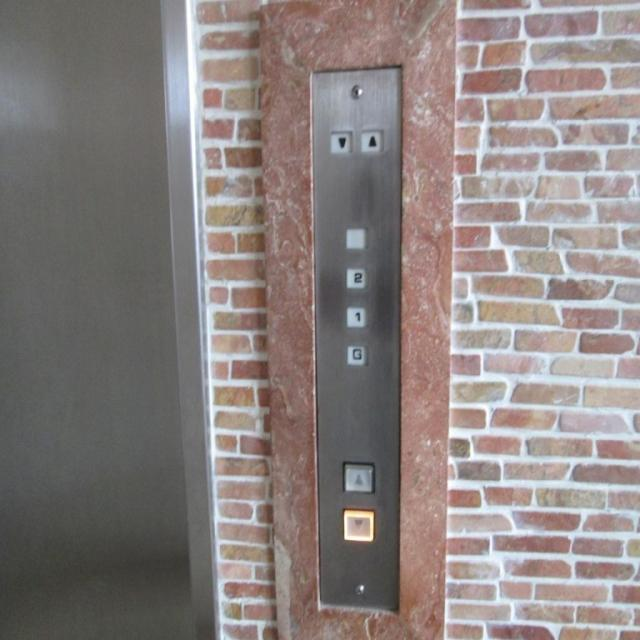1: (343, 304, 366, 328)
2: (344, 264, 366, 289)
G: (343, 342, 368, 366)
down: (341, 507, 375, 541), (327, 128, 352, 154)
empty: (343, 225, 365, 249)
up: (341, 458, 375, 494), (358, 127, 383, 153)
